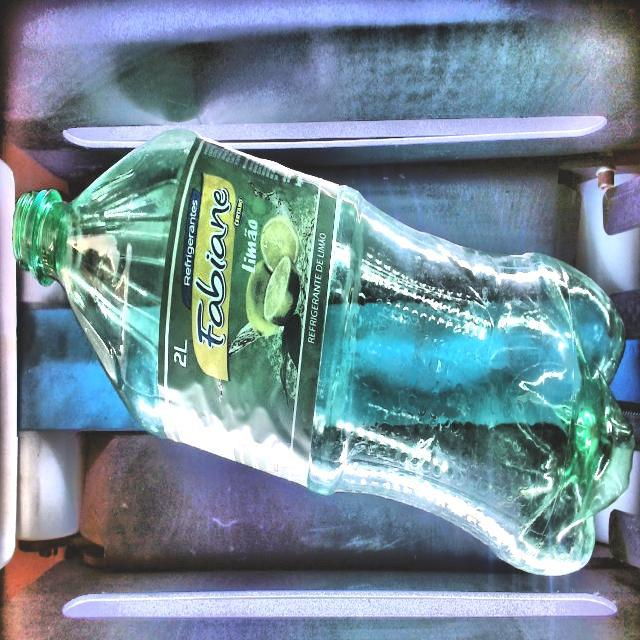bottom: (340, 202, 632, 574)
label: (158, 140, 338, 484)
neck: (13, 131, 197, 437)
